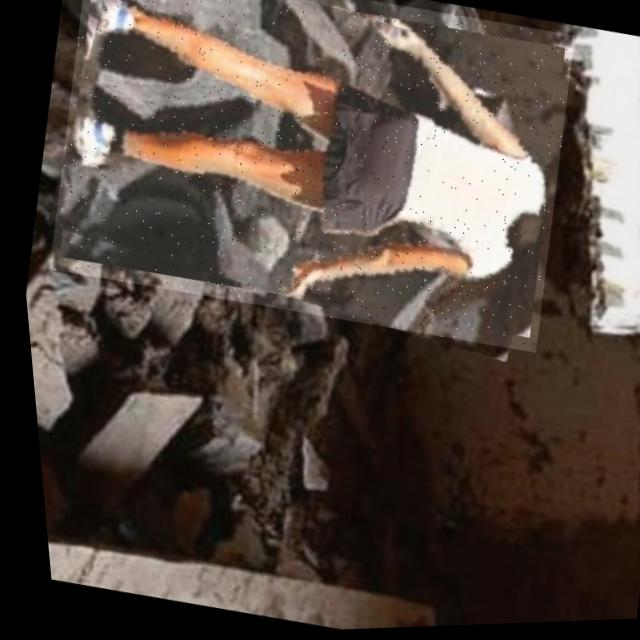Person in Rubble: (24, 0, 594, 369)
